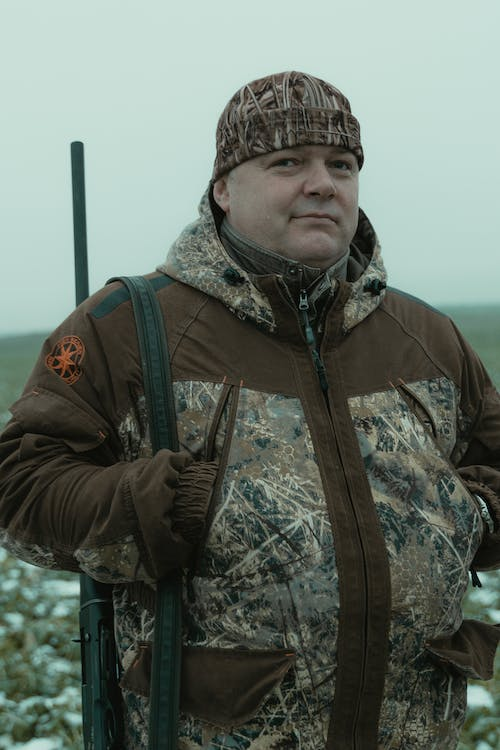gun: (66, 135, 122, 750)
